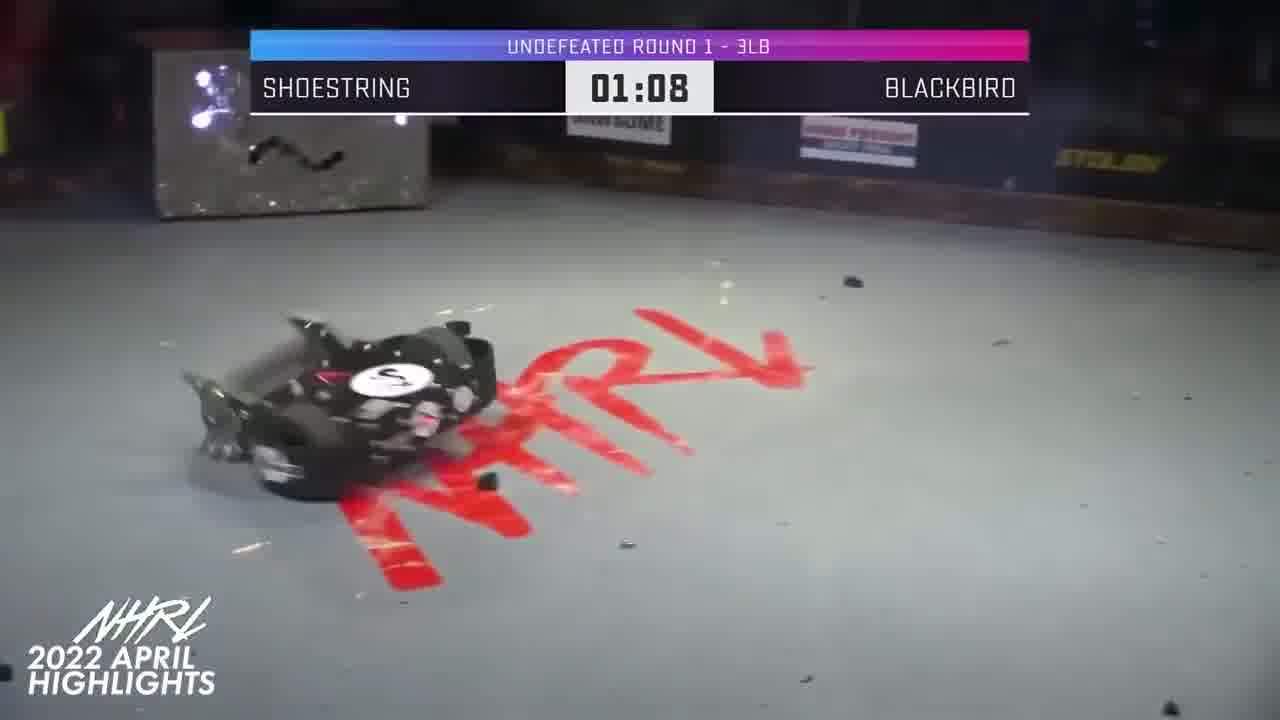combatbot: (202, 310, 500, 501)
housebot: (128, 31, 440, 230)
